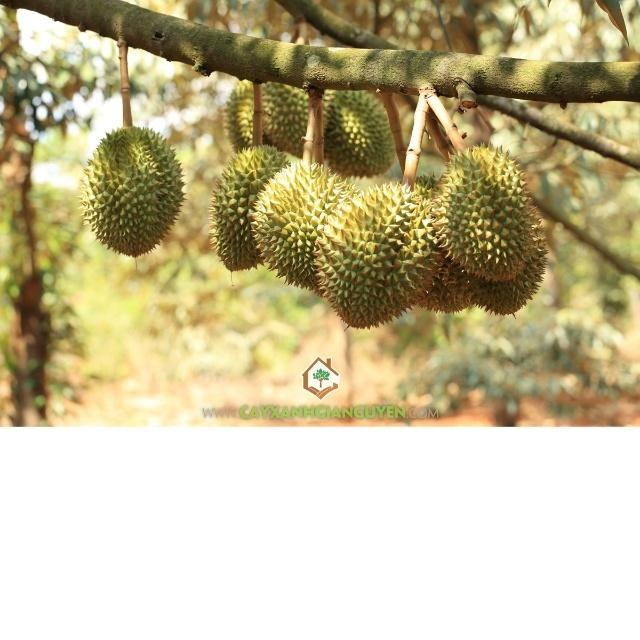sau_rieng: (319, 182, 442, 330), (433, 146, 545, 282), (87, 127, 186, 258), (258, 164, 331, 282), (218, 148, 287, 272), (316, 87, 394, 177), (230, 80, 307, 160)
